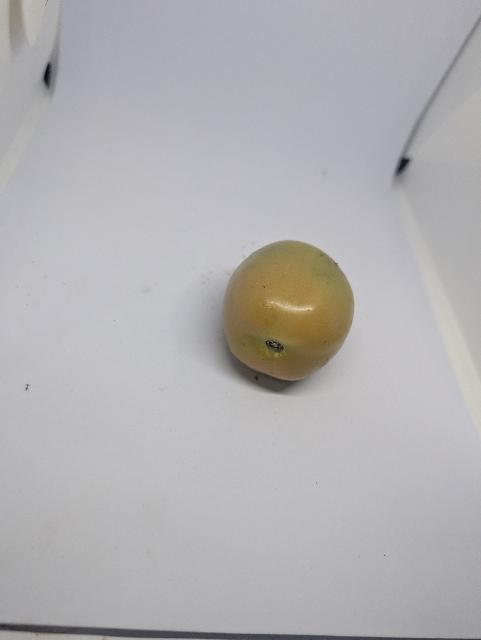breaker: (213, 234, 357, 387)
